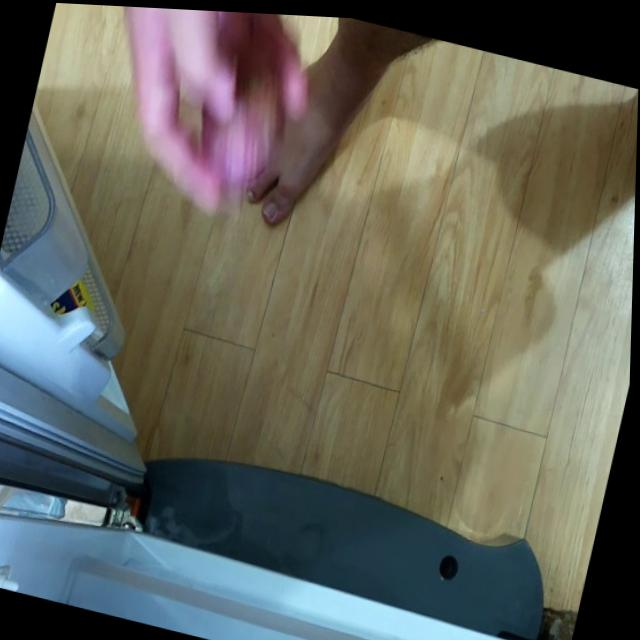onion: (184, 55, 302, 210)
